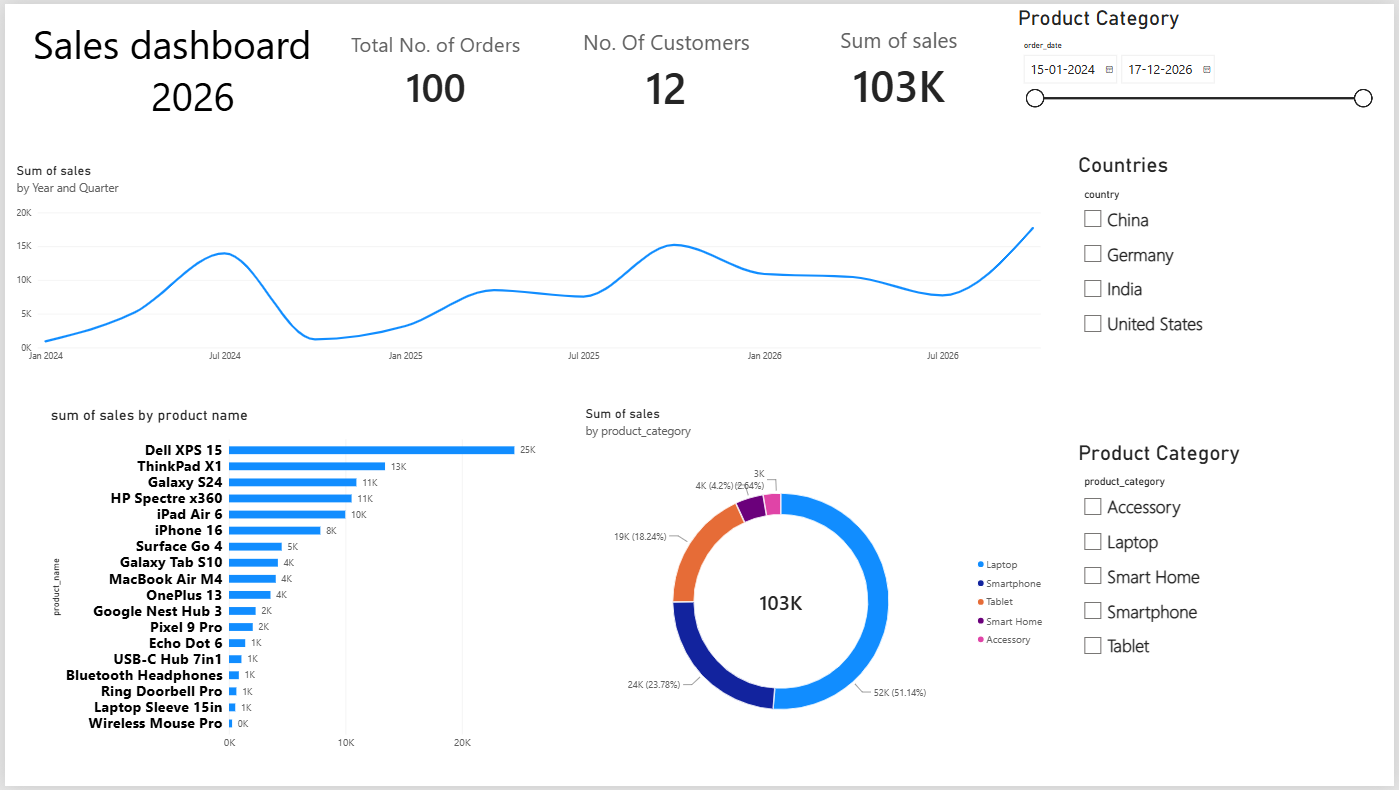

The dashboard page shown, as its layout file describes it:
{"tool":"powerbi","page":{"name":"Page 1","canvas":[1920,1080],"ordinal":0},"visuals":[{"type":"barChart","title":"sum of sales by product name","fields":{"Category":["orders.product_name"],"Y":["Sum(orders.sales)"]},"box":[48.3,541.4,713.8,510.3],"z":0},{"type":"donutChart","fields":{"Category":["orders.product_category"],"Y":["Sum(orders.sales)"]},"box":[786.2,541.4,672.4,510.3],"z":1},{"type":"cardVisual","fields":{"Data":["CountNonNull(orders.order_id)"]},"box":[462.1,3.4,269,182.8],"z":2},{"type":"cardVisual","fields":{"Data":["Count(orders.customer_id)"]},"box":[762.1,3.4,306.9,182.8],"z":3},{"type":"cardVisual","fields":{"Data":["Sum(orders.sales)"]},"box":[1093.1,0,282.8,182.8],"z":4},{"type":"lineChart","fields":{"Category":["orders.order_date.Variation.Date Hierarchy.Year","orders.order_date.Variation.Date Hierarchy.Quarter"],"Y":["Sum(orders.sales)"]},"box":[0,206.9,1458.6,310.3],"z":5},{"type":"slicer","title":"Product Category","fields":{"Values":["orders.product_category"]},"box":[1482.8,603.4,410.3,382.8],"z":6},{"type":"slicer","title":"Countries","fields":{"Values":["customers.country"]},"box":[1482.8,206.9,410.3,334.5],"z":7},{"type":"slicer","title":"Product Category","fields":{"Values":["orders.order_date"]},"box":[1400,3.4,493.1,182.8],"z":8},{"type":"textbox","box":[0,0,462.1,182.8],"z":10}]}

Visuals, with their boxes in screenshot pixels (x1, y1, x2, y2), scaled from the page's 1920x1080 canvas onto the 1399x790 screenshot:
"sum of sales by product name" barChart: bbox=(35, 396, 555, 769)
donutChart - orders.product_category x Sum(orders.sales): bbox=(573, 396, 1063, 769)
cardVisual - CountNonNull(orders.order_id): bbox=(337, 2, 533, 136)
cardVisual - Count(orders.customer_id): bbox=(555, 2, 779, 136)
cardVisual - Sum(orders.sales): bbox=(796, 0, 1003, 134)
lineChart - orders.order_date.Variation.Date Hierarchy.Year x orders.order_date.Variation.Date Hierarchy.Quarter: bbox=(0, 151, 1063, 378)
"Product Category" slicer: bbox=(1080, 441, 1379, 721)
"Countries" slicer: bbox=(1080, 151, 1379, 396)
"Product Category" slicer: bbox=(1020, 2, 1379, 136)
textbox: bbox=(0, 0, 337, 134)
